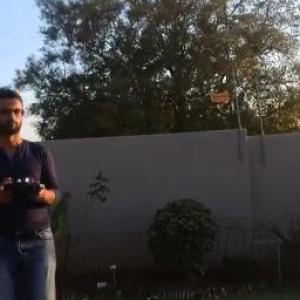follow: (1, 88, 68, 299)
